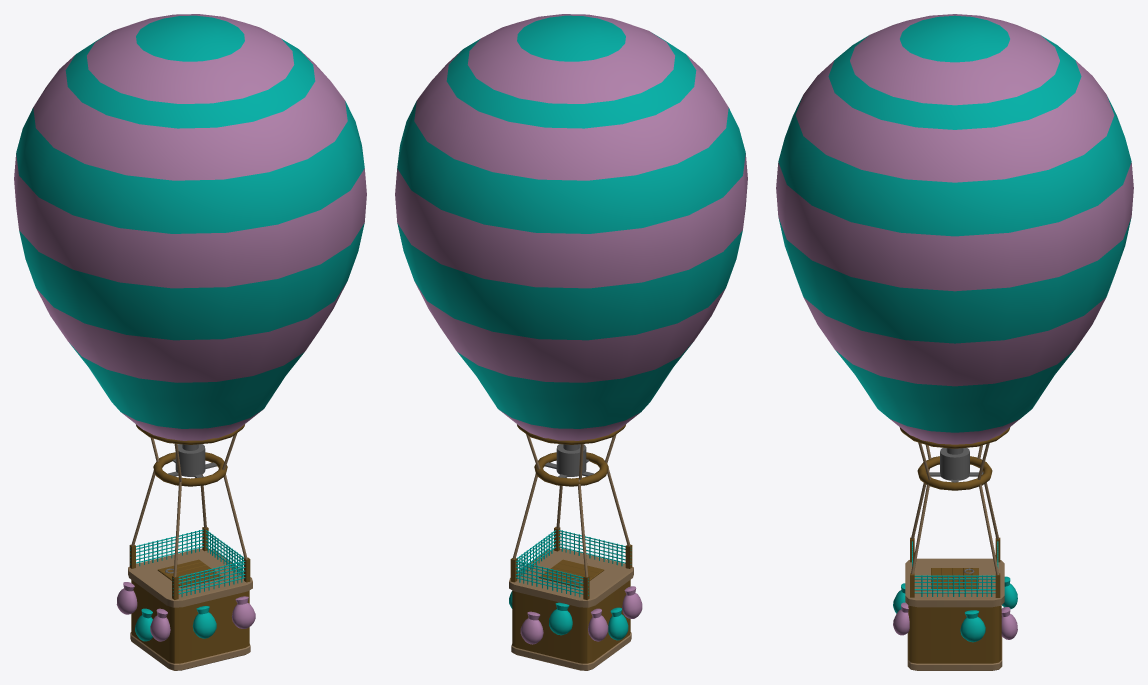
File: baloon.fbx
3 views of the same model, side by side, from view 1: azimuth 30°, elevation 25°; view 2: azimuth 150°, elevation 25°; view 3: azimuth 270°, elevation 25° (orthographic).
Visible parts, largest first — view 1: baloon2; view 2: baloon2; view 3: baloon2.
Boxes of the visible parts, x1=… form: baloon2: x1=14, y1=14, x2=366, y2=670; baloon2: x1=395, y1=14, x2=747, y2=670; baloon2: x1=776, y1=14, x2=1133, y2=670.
Bounding box in the file's own units: 5187 × 5187 × 9912.
